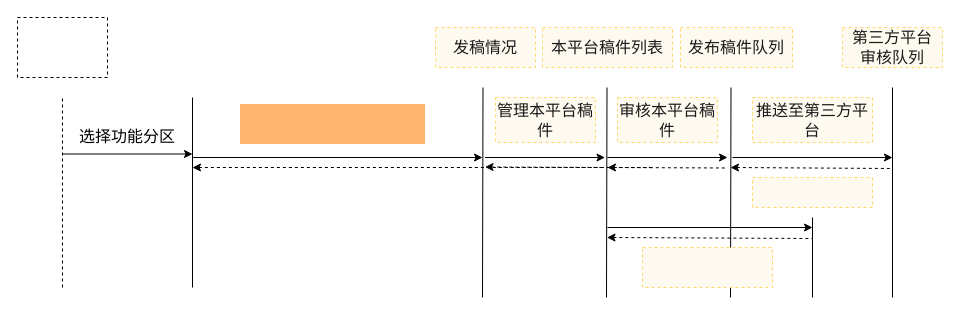
Some shapes in this 960 by 316 pixel diagram are drawn without their labels. Each missing label, with the centre of its shape:
对稿件进行管理、审核: [332,124]
归档本平台稿件: [707,267]
归档稿件列表: [812,192]
用户登录: [62,47]
